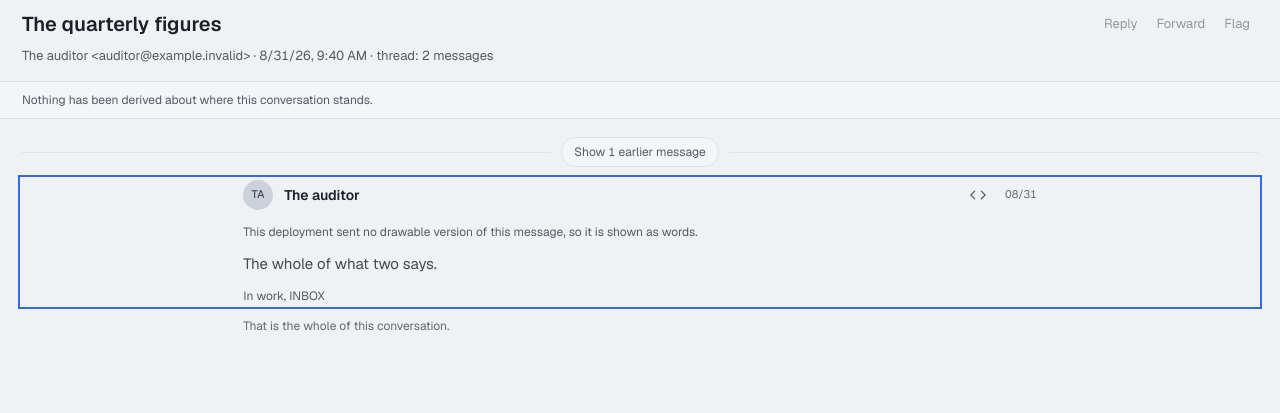
Scenario: Thread › says a message the conversation could not carry rather than drawing it empty
The width and height of the screenshot is (1280, 413).
Step 1. Click the button "Show 1 earlier message" → (640, 152), box [561,137,719,167]
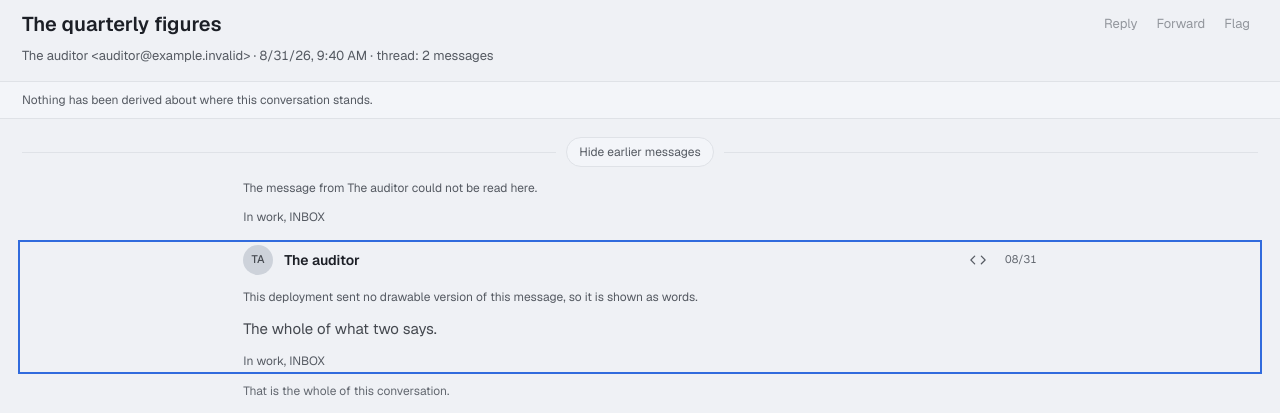
Check: the text "The message from The auditor could not be read here." is shown, box [243,180,537,196]
